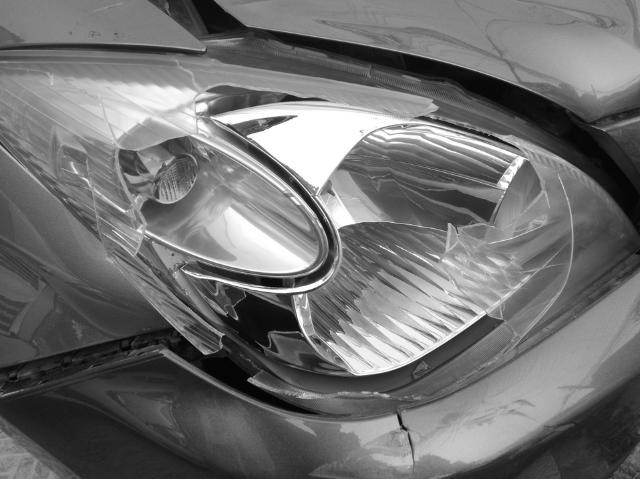Light: (0, 50, 640, 415)
